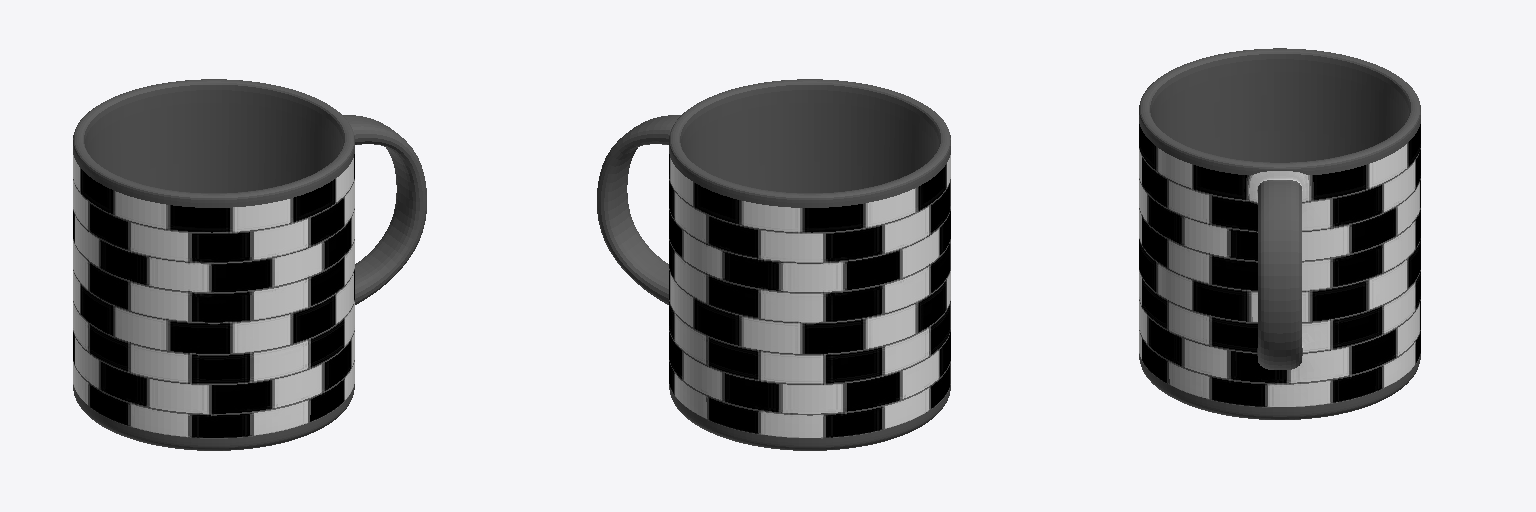
3 views of the same model, side by side, from view 1: azimuth 30°, elevation 25°; view 2: azimuth 150°, elevation 25°; view 3: azimuth 270°, elevation 25° (orthographic).
Parts seen in each view (by area): view 1: Object_1, Object_0; view 2: Object_1, Object_0; view 3: Object_1, Object_0.
Boxes of the visible parts, x1,y1,x2,y2 form: Object_1: [73, 154, 354, 438]; Object_0: [73, 79, 426, 450]; Object_1: [669, 154, 950, 438]; Object_0: [597, 79, 950, 450]; Object_1: [1139, 124, 1420, 407]; Object_0: [1139, 48, 1420, 419].
Size of the model in its own units: 2.67 by 2 by 1.99.
Materials: 2 (1 with a texture image).